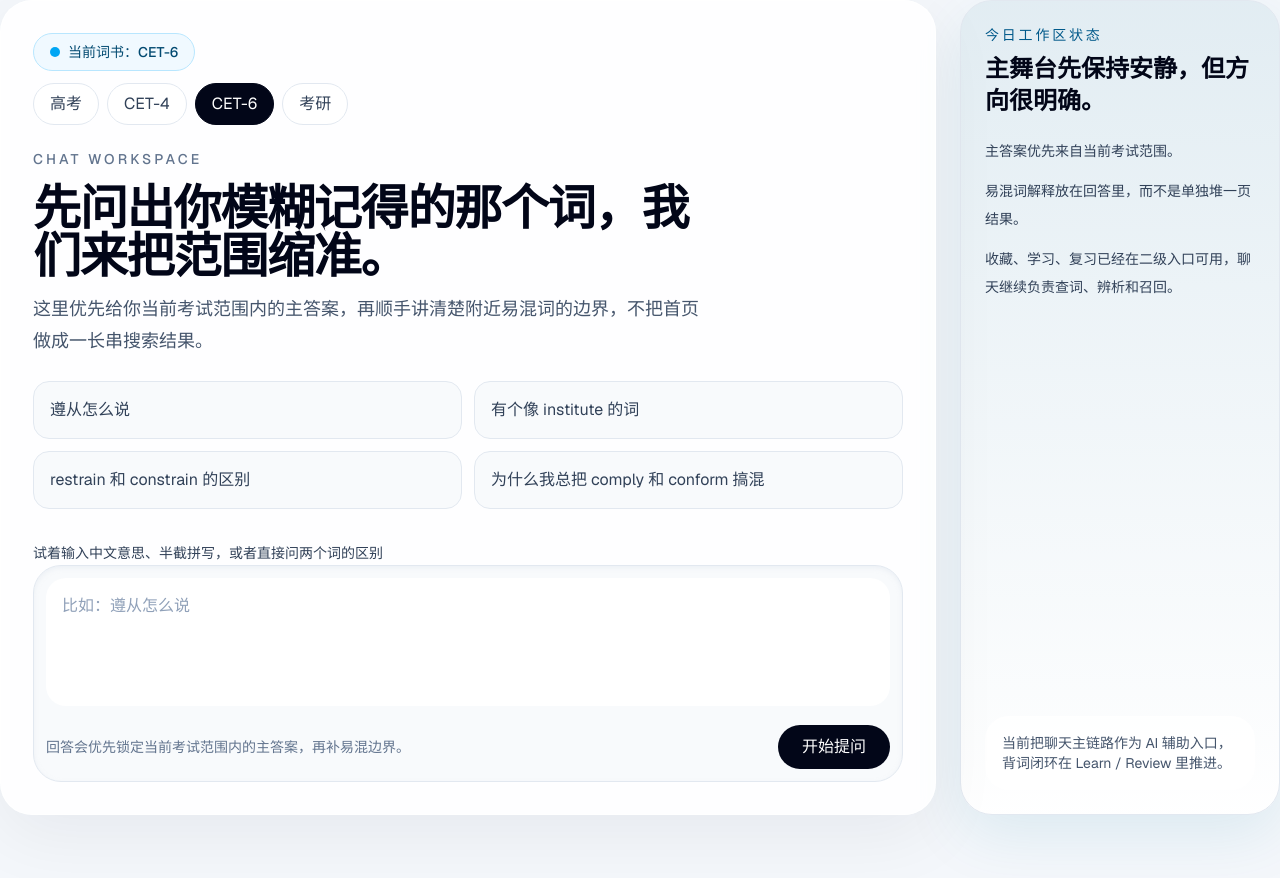
Scenario: ChatWorkspace › hides old clarification options after the user submits another message that fails
Type "第二个是什么意思" into the text box with test id "chat-input" at (468,642), box top-left (46, 578), bottom-right (890, 706)
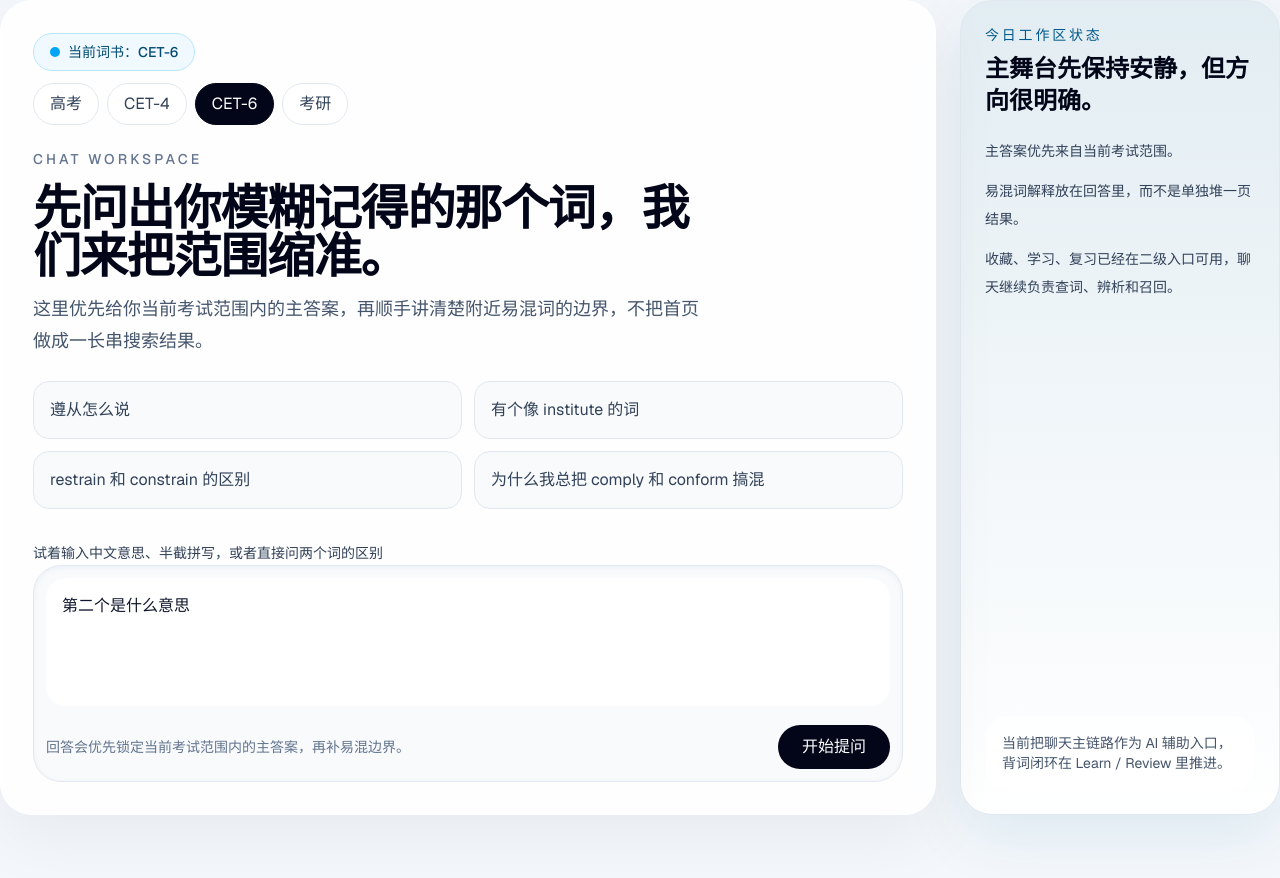
Click the button "开始提问" at (834,747), box top-left (778, 725), bottom-right (890, 769)
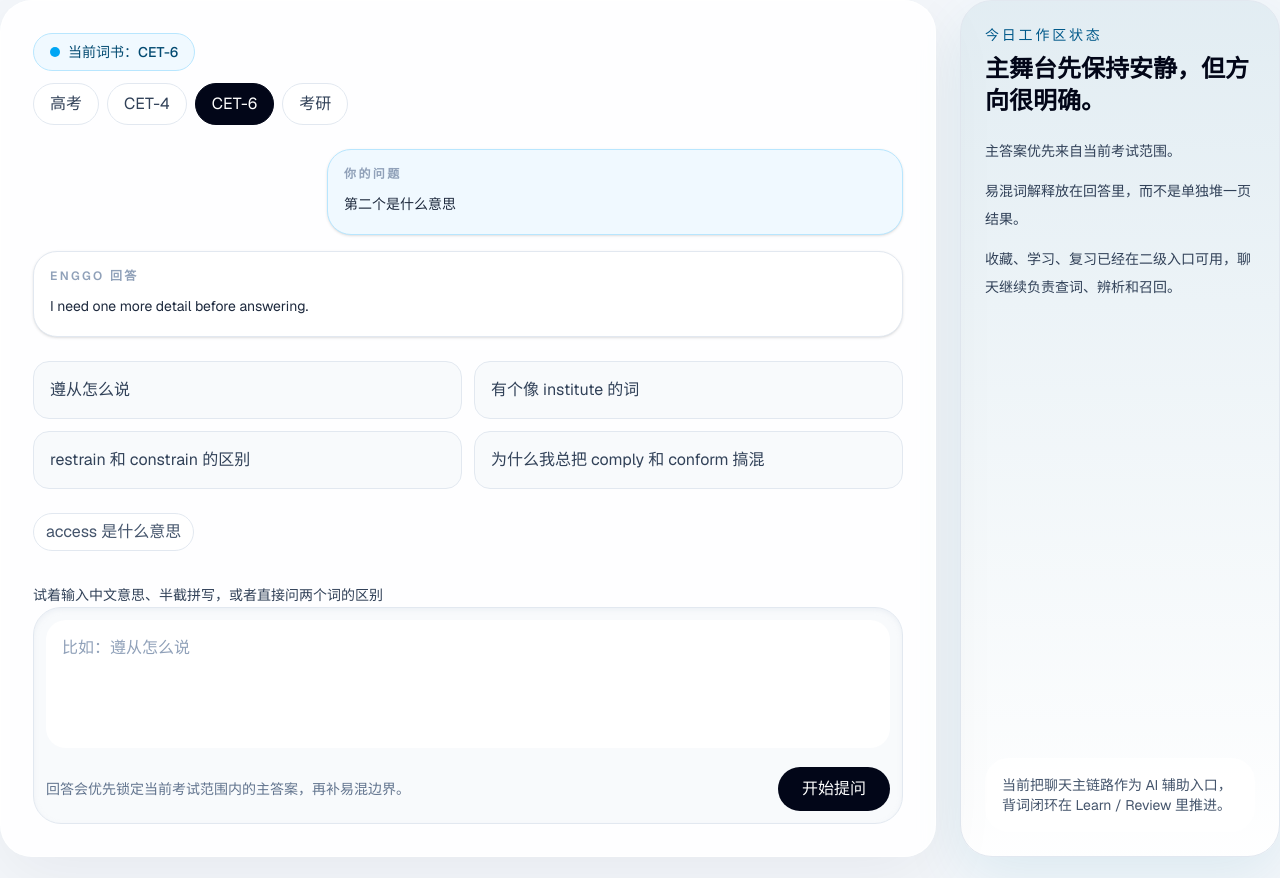
expect the button "access 是什么意思" is shown: met, box top-left (33, 513), bottom-right (194, 551)
Type "assess 是什么意思" into the text box with test id "chat-input" at (468,684), box top-left (46, 620), bottom-right (890, 748)
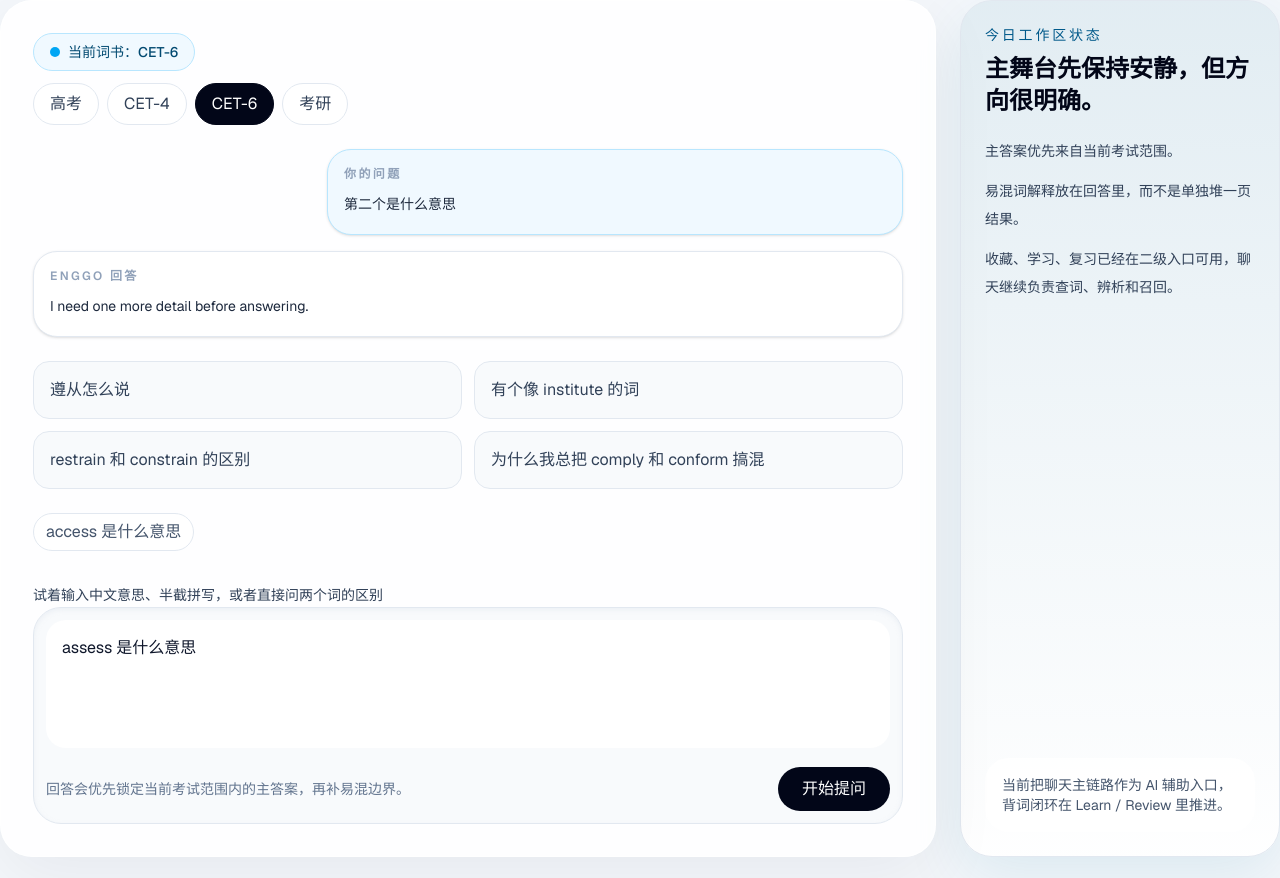
Click the button "开始提问" at (834,789), box top-left (778, 767), bottom-right (890, 811)
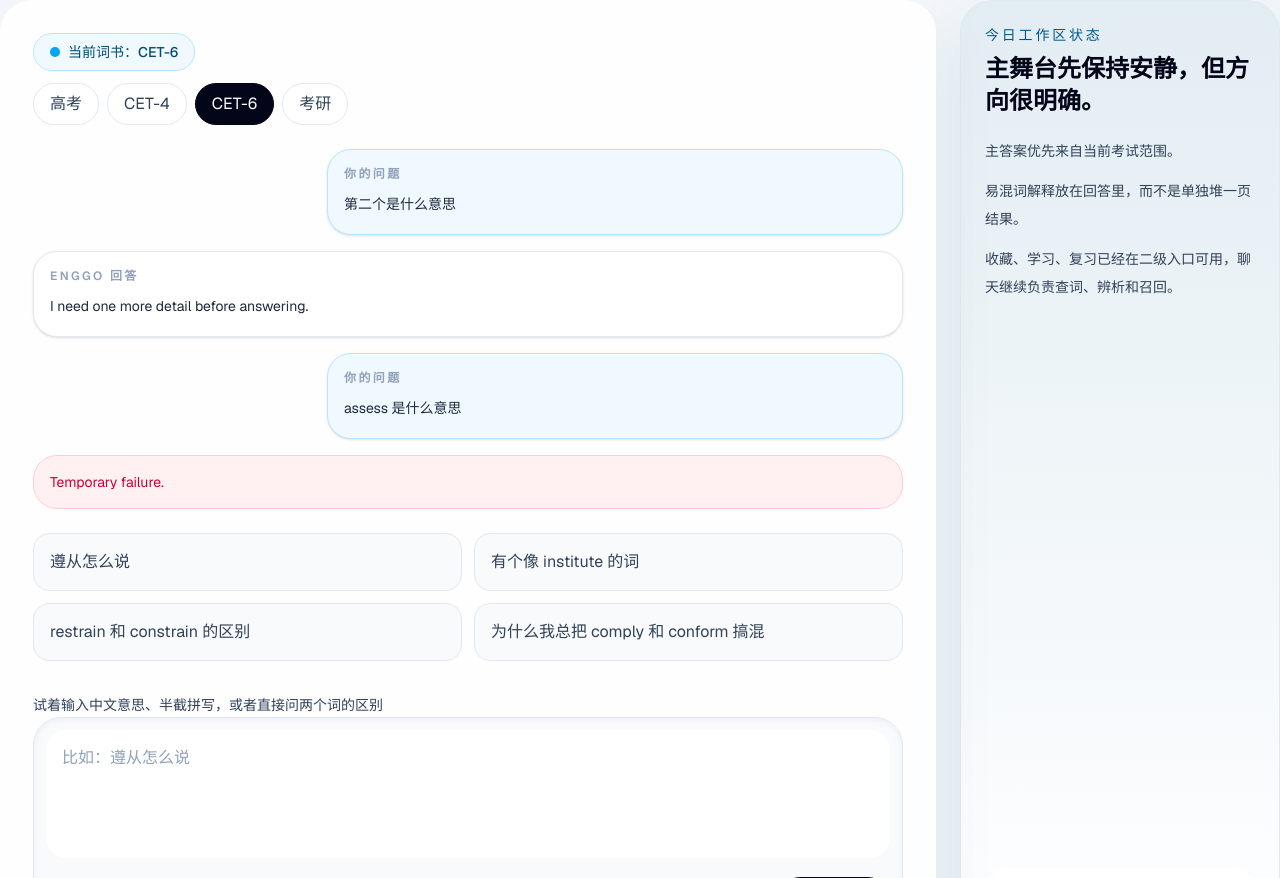
expect the text "Temporary failure." is shown: met, box top-left (33, 455), bottom-right (903, 509)
expect the button "access 是什么意思" is gone: met
